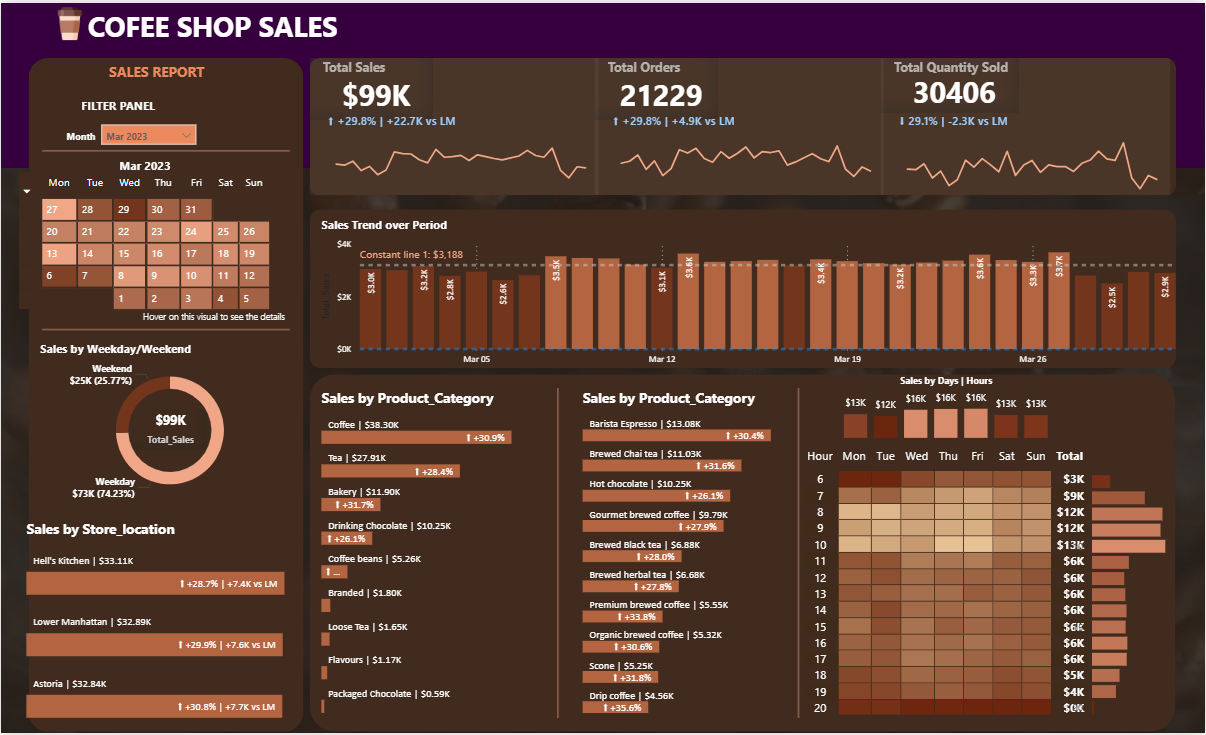

This screenshot's page, from the dashboard's own definition file:
{"tool":"powerbi","page":{"name":"Coffee_Sales","canvas":[1400,850],"ordinal":0},"visuals":[{"type":"shape","box":[-8,0,1408,192],"z":0},{"type":"shape","box":[32,64,320,784],"z":1000},{"type":"shape","box":[359,64,1008,160],"z":2000},{"type":"textbox","box":[96,0,320,64],"z":3000},{"type":"card","title":"Total Sales","fields":{"Values":["Date Table.Total_Sales"]},"box":[359.1,64,144,72],"z":4000,"group":"g1"},{"type":"card","title":"Total Orders","fields":{"Values":["Date Table.Total_Orders"]},"box":[691.6,64,144,72],"z":4000,"group":"g2"},{"type":"card","title":"Total Quantity Sold","fields":{"Values":["Date Table.Total_Quantity_Sold"]},"box":[1024,64,160,64],"z":4000,"group":"g3"},{"type":"slicer","fields":{"Values":["Date Table.Month_Year"]},"box":[112,136,120,40],"z":4000},{"type":"card","title":"Total Sales","fields":{"Values":["Date Table.Total_Sales"]},"box":[144,472,96,48],"z":5000},{"type":"group","id":"g1","title":"Group 1","box":[359.1,64,336,160],"z":6000},{"type":"lineChart","fields":{"Category":["Date Table.Date.Variation.Date Hierarchy.Year","Date Table.Date.Variation.Date Hierarchy.Quarter","Date Table.Date.Variation.Date Hierarchy.Month","Date Table.Date.Variation.Date Hierarchy.Day"],"Y":["Date Table.Total_Sales"]},"box":[375.1,128,320,96],"z":6000,"group":"g1"},{"type":"lineChart","fields":{"Category":["Date Table.Date.Variation.Date Hierarchy.Year","Date Table.Date.Variation.Date Hierarchy.Quarter","Date Table.Date.Variation.Date Hierarchy.Month","Date Table.Date.Variation.Date Hierarchy.Day"],"Y":["Date Table.Total_Orders"]},"box":[707.6,128,320,96],"z":6000,"group":"g2"},{"type":"lineChart","fields":{"Category":["Date Table.Date.Variation.Date Hierarchy.Year","Date Table.Date.Variation.Date Hierarchy.Quarter","Date Table.Date.Variation.Date Hierarchy.Month","Date Table.Date.Variation.Date Hierarchy.Day"],"Y":["Date Table.Total_Quantity_Sold"]},"box":[1040,128,320,96],"z":6000,"group":"g3"},{"type":"group","id":"g2","title":"Group 1","box":[691.6,64,336,160],"z":7000},{"type":"group","id":"g3","title":"Group 1","box":[1024,64,336,160],"z":8000},{"type":"pivotTable","fields":{"Columns":["Date Table.Day Name"],"Rows":["Date Table.Week No"],"Values":["Min(Date Table.Day_No)"]},"box":[16,192,304,192],"z":9000},{"type":"card","fields":{"Values":["Min(Date Table.Month_Year)"]},"box":[64,160,208,64],"z":10000},{"type":"card","fields":{"Values":["Date Table.Foot Note"]},"box":[128,336,240,64],"z":11000},{"type":"shape","box":[48,368,288,24],"z":12000},{"type":"shape","box":[48,160,288,24],"z":13000},{"type":"donutChart","title":"Sales by Weekday/Weekend","fields":{"Category":["Date Table.Weekday/Weekend"],"Y":["Date Table.Total_Sales"]},"box":[40,392,312,192],"z":14000},{"type":"clusteredBarChart","title":"Sales by Store_location","fields":{"Category":["Transactions.store_location"],"Y":["Date Table.PlaceHolder","Date Table.Total_Sales"]},"box":[24,600,336,240],"z":15000},{"type":"shape","box":[359,240,1008,185],"z":16000},{"type":"columnChart","title":"Sales Trend over Period ","fields":{"Category":["Transactions.transaction_date"],"Y":["Date Table.Total_Sales"]},"box":[368,248,1008,192],"z":17000},{"type":"shape","box":[359,432,1007,416],"z":18000},{"type":"clusteredBarChart","title":"Sales by Product_Category","fields":{"Y":["Date Table.PlaceHolder","Date Table.Total_Sales"],"Category":["Transactions.product_category"]},"box":[368,448,256,384],"z":19000},{"type":"shape","box":[624,448,48,384],"z":20000},{"type":"clusteredBarChart","title":"Sales by Product_Category","fields":{"Y":["Date Table.PlaceHolder","Date Table.Total_Sales"],"Category":["Transactions.product_type"]},"box":[672,448,256,384],"z":21000},{"type":"shape","box":[896,448,64,384],"z":22000},{"type":"pivotTable","fields":{"Rows":["Transactions.Hour"],"Columns":["Date Table.Day Name"],"Values":["Date Table.Total_Sales"]},"box":[928,512,352,336],"z":23000},{"type":"clusteredBarChart","fields":{"Category":["Transactions.Hour"],"Y":["Date Table.Total_Sales"]},"box":[1240,536,136,304],"z":24000},{"type":"columnChart","title":"Sales by Days | Hours","fields":{"Y":["Date Table.Total_Sales"],"Category":["Date Table.Day Name"]},"box":[976,432,248,80],"z":25000},{"type":"textbox","box":[71,140,56,31],"z":26000},{"type":"textbox","box":[120,64,144,32],"z":27000},{"type":"textbox","box":[88,104,144,40],"z":28000},{"type":"image","box":[48,0,64,48],"z":29000}]}

Visuals, with their boxes in screenshot pixels (x1, y1, x2, y2), scaled from the page's 1400x850 canvas onto the 1206x735 screenshot:
shape: bbox=[0, 0, 1205, 166]
shape: bbox=[28, 55, 303, 733]
shape: bbox=[309, 55, 1178, 194]
textbox: bbox=[83, 0, 358, 55]
"Total Sales" card: bbox=[309, 55, 433, 118]
"Total Orders" card: bbox=[596, 55, 720, 118]
"Total Quantity Sold" card: bbox=[882, 55, 1020, 111]
slicer - Date Table.Month_Year: bbox=[96, 118, 200, 152]
"Total Sales" card: bbox=[124, 408, 207, 450]
"Group 1" group: bbox=[309, 55, 599, 194]
lineChart - Date Table.Date.Variation.Date Hierarchy.Year x Date Table.Date.Variation.Date Hierarchy.Quarter: bbox=[323, 111, 599, 194]
lineChart - Date Table.Date.Variation.Date Hierarchy.Year x Date Table.Date.Variation.Date Hierarchy.Quarter: bbox=[610, 111, 885, 194]
lineChart - Date Table.Date.Variation.Date Hierarchy.Year x Date Table.Date.Variation.Date Hierarchy.Quarter: bbox=[896, 111, 1172, 194]
"Group 1" group: bbox=[596, 55, 885, 194]
"Group 1" group: bbox=[882, 55, 1172, 194]
pivotTable - Date Table.Day Name x Date Table.Week No: bbox=[14, 166, 276, 332]
card - Min(Date Table.Month_Year): bbox=[55, 138, 234, 194]
card - Date Table.Foot Note: bbox=[110, 291, 317, 346]
shape: bbox=[41, 318, 289, 339]
shape: bbox=[41, 138, 289, 159]
"Sales by Weekday/Weekend" donutChart: bbox=[34, 339, 303, 505]
"Sales by Store_location" clusteredBarChart: bbox=[21, 519, 310, 726]
shape: bbox=[309, 208, 1178, 368]
"Sales Trend over Period " columnChart: bbox=[317, 214, 1185, 380]
shape: bbox=[309, 374, 1177, 733]
"Sales by Product_Category" clusteredBarChart: bbox=[317, 387, 538, 719]
shape: bbox=[538, 387, 579, 719]
"Sales by Product_Category" clusteredBarChart: bbox=[579, 387, 799, 719]
shape: bbox=[772, 387, 827, 719]
pivotTable - Transactions.Hour x Date Table.Day Name: bbox=[799, 443, 1103, 733]
clusteredBarChart - Transactions.Hour x Date Table.Total_Sales: bbox=[1068, 463, 1185, 726]
"Sales by Days | Hours" columnChart: bbox=[841, 374, 1054, 443]
textbox: bbox=[61, 121, 109, 148]
textbox: bbox=[103, 55, 227, 83]
textbox: bbox=[76, 90, 200, 125]
image: bbox=[41, 0, 96, 42]
